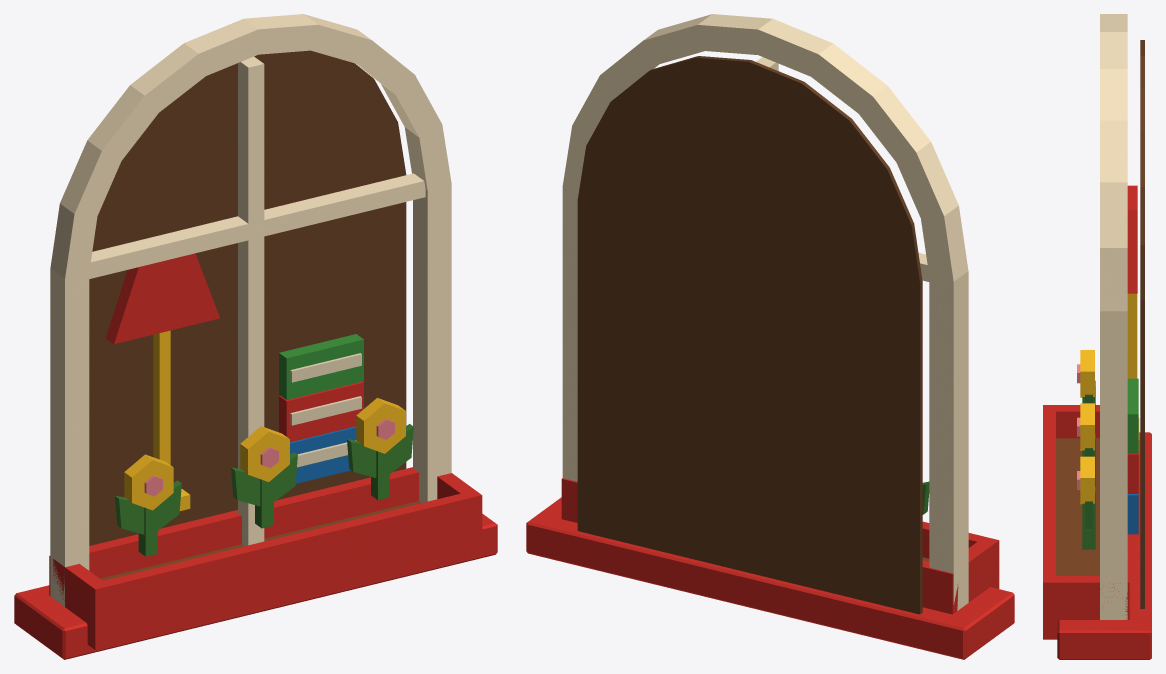
Rendered from window-arch.fbx.
3 renders of one model, left to right at view 1: azimuth 30°, elevation 25°; view 2: azimuth 150°, elevation 25°; view 3: azimuth 270°, elevation 25°, orthographic. The views are drawn at different scales.
Parts seen in each view (by area): view 1: window-arch; view 2: window-arch; view 3: window-arch.
Part boxes in pixels (box(x1,y1,x2,y2)): window-arch: box(14, 14, 497, 659); window-arch: box(526, 14, 1014, 659); window-arch: box(1043, 14, 1151, 659).
Bounding box in the file's own units: 1800 × 2223 × 415.
1 material, 1 textured.
